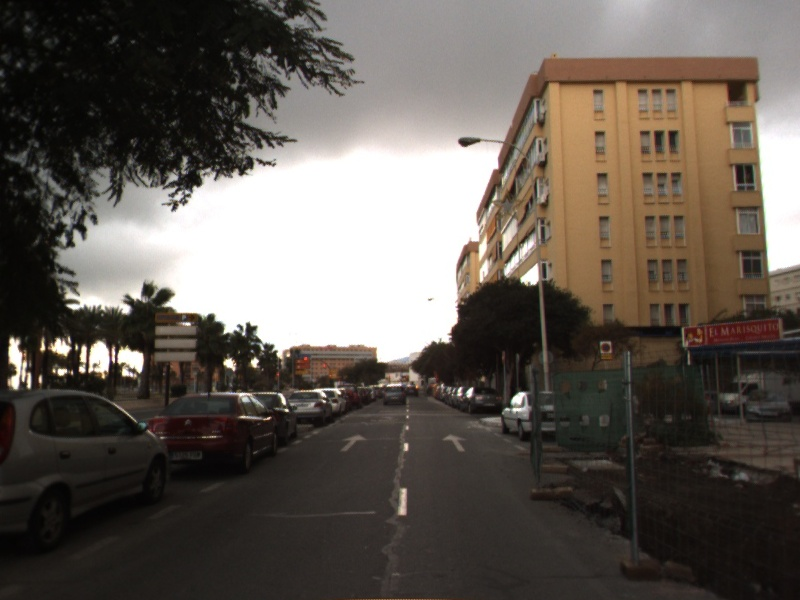STRAIGHT: (338, 433, 369, 453), (441, 433, 469, 452)
